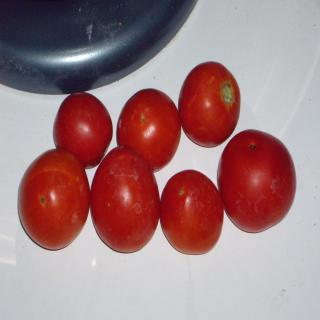tomato: (216, 128, 297, 234), (86, 148, 161, 256), (19, 150, 91, 250), (117, 85, 181, 174), (179, 61, 241, 148), (160, 169, 224, 253), (52, 91, 113, 169)
